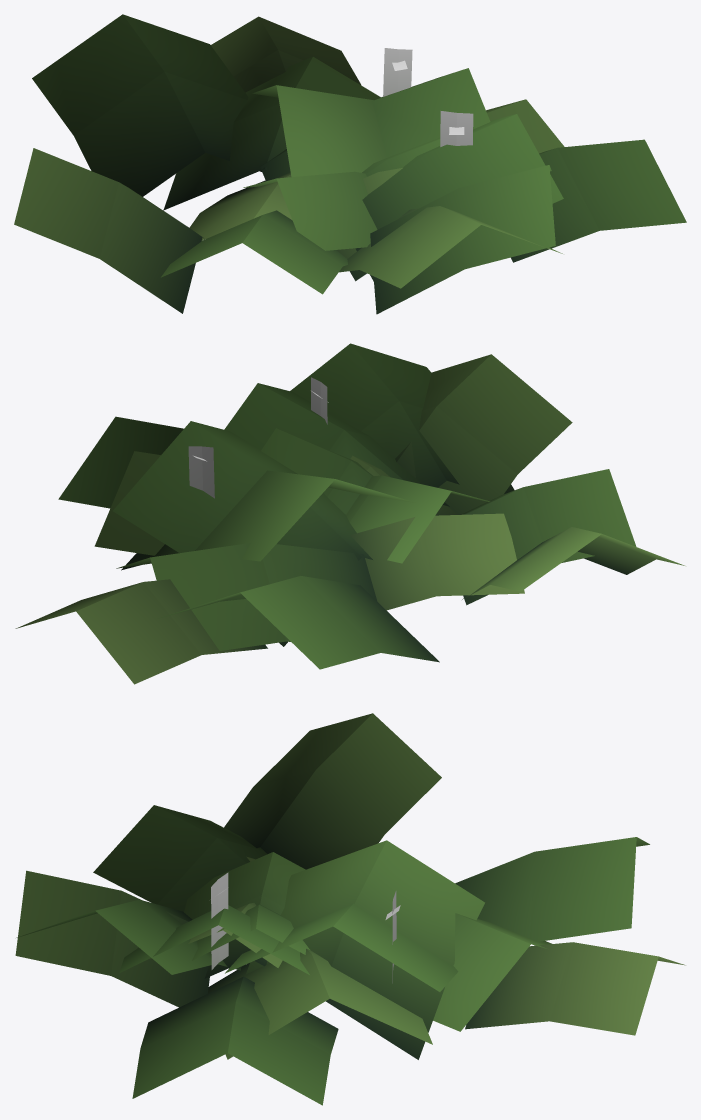
The model's file is dandelion_b.glb.
3 views of the same model, one above another, from view 1: azimuth 30°, elevation 25°; view 2: azimuth 150°, elevation 25°; view 3: azimuth 270°, elevation 25° (orthographic). The views are drawn at different scales.
Visible parts, largest first — view 1: isl_dandelion_b; view 2: isl_dandelion_b; view 3: isl_dandelion_b.
Part boxes in pixels (x1=…): isl_dandelion_b: x1=14, y1=14, x2=686, y2=314; isl_dandelion_b: x1=15, y1=343, x2=684, y2=684; isl_dandelion_b: x1=15, y1=713, x2=685, y2=1105.
Size of the model in its own units: 0.2591 by 0.0569 by 0.2482.
